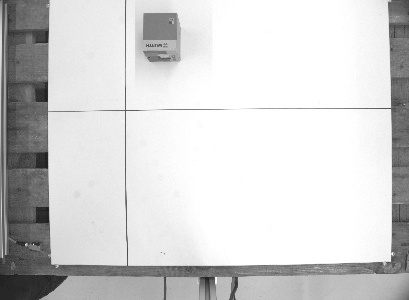b7: (138, 9, 184, 64)
